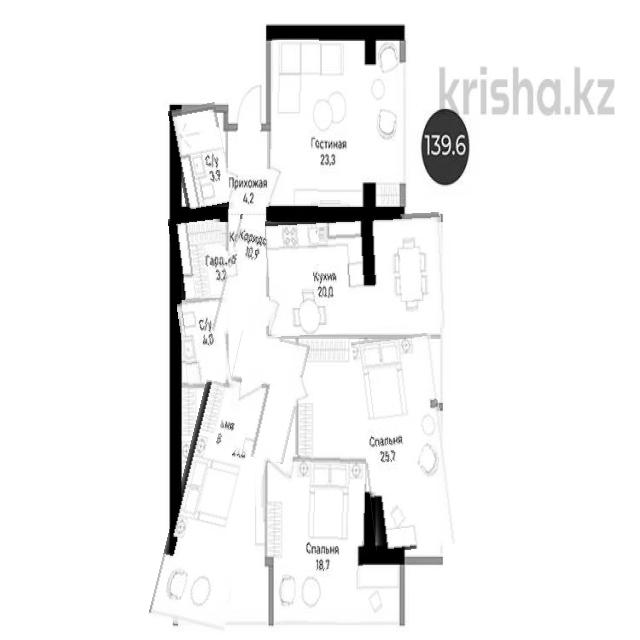bathroom: (173, 104, 231, 216), (180, 300, 228, 384)
hallway: (233, 334, 310, 464), (219, 215, 273, 339), (229, 130, 269, 216)
kitchen: (265, 213, 446, 336)
living_room: (162, 382, 268, 633), (358, 334, 450, 551), (270, 32, 367, 210), (283, 456, 365, 624)
other: (171, 214, 227, 299)
